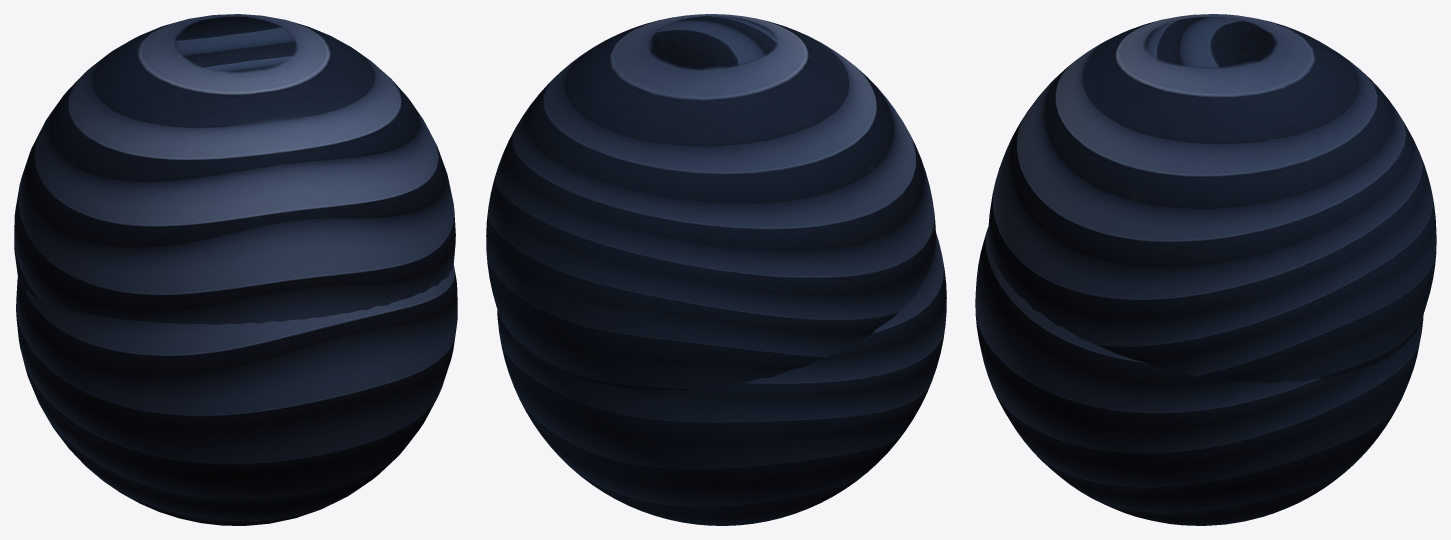
File: bank globe.glb
3 renders of one model, left to right at view 1: azimuth 30°, elevation 25°; view 2: azimuth 150°, elevation 25°; view 3: azimuth 270°, elevation 25°, orthographic.
Visible parts, largest first — view 1: meshes_0.002, meshes_0.001; view 2: meshes_0.002, meshes_0.001; view 3: meshes_0.002, meshes_0.001.
Part boxes in pixels (x1,y1,x2,y2): meshes_0.002: [14, 14, 455, 324]; meshes_0.001: [16, 265, 457, 525]; meshes_0.002: [486, 14, 935, 390]; meshes_0.001: [497, 233, 946, 525]; meshes_0.002: [988, 14, 1436, 383]; meshes_0.001: [975, 227, 1423, 525].
Size of the model in its own units: 1.97 by 2.26 by 2.
Materials: 2 (2 with a texture image).
